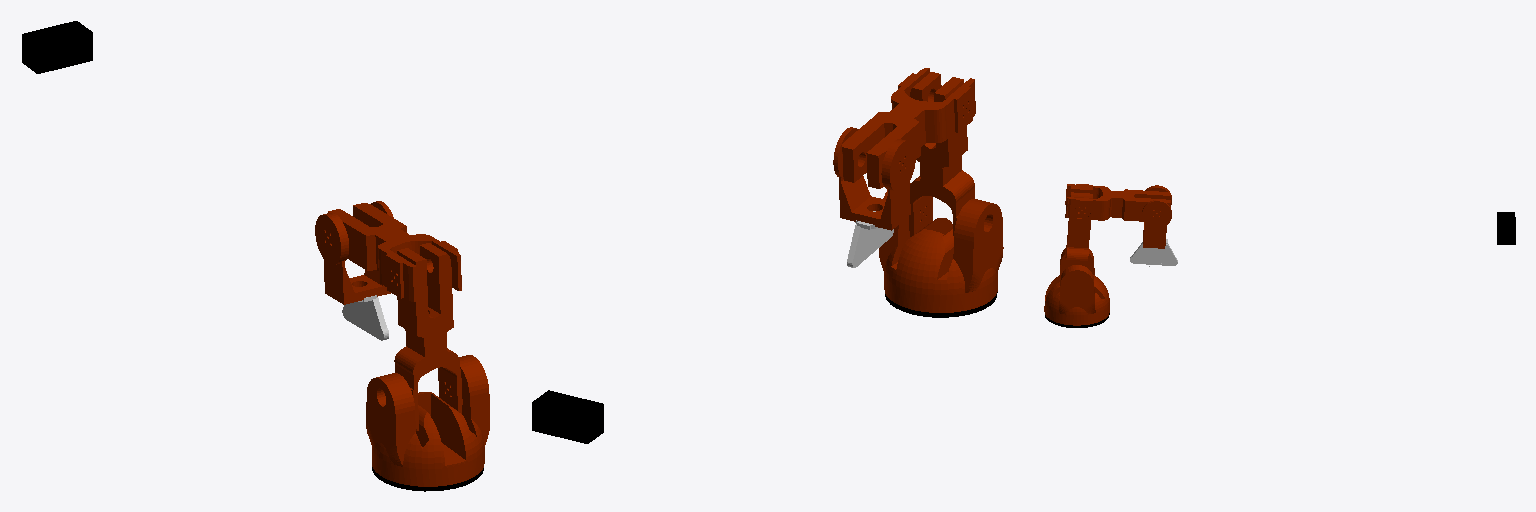
The robot description file, URDF, robot "braccio":
<?xml version="1.0"?>
<robot name="braccio">
     <gazebo>
     <plugin name="gazebo_ros_control" filename="libgazebo_ros_control.so">
       <robotNamespace>/robot</robotNamespace>
       <controlPeriod>0.001</controlPeriod>
       <legacyModeNS>true</legacyModeNS>
     </plugin>
   </gazebo>
    
    <!--<gazebo>
       <plugin filename="libroboticsgroup_gazebo_mimic_joint_plugin.so" name="sub_gripper">
        <joint>gripper_joint</joint>
        <mimicJoint>sub_gripper_joint</mimicJoint>
        <multiplier>1</multiplier>
      </plugin> 
    </gazebo>-->
    <!-- Color de materiales -->
    <material name="orange">
        <color rgba="0.57 0.17 0.0 1" />
    </material>
    <material name="white">
        <color rgba="0.8 0.8 0.8 1.0" />
    </material>
    <material name="black">
        <color rgba="0 0 0 0.50" />
    </material>

    <!--Mascaras para partes del robot-->
    <link name="base_link">
        <visual>
            <geometry>
                <cylinder length="0.01" radius=".053" />
            </geometry>
            <material name="black" />
            <origin rpy="0 0 0" xyz="0 0 0" />
        </visual>
        <inertial>
            <origin rpy="0 0 0" xyz="0 0 0" />
            <mass value="0.1" />
            <inertia ixx="0.1" ixy="0.0" ixz="0.0" iyy="0.1" iyz="0.0" izz="0.1"/>
        </inertial>
    </link>

    <link name="braccio_base_link">
        <visual>
            <geometry>
                <mesh filename="package://BRT_Description/meshes/braccio_base.stl" scale="0.01 0.01 0.01" />
            </geometry>
            <material name="orange" />
            <origin rpy="0 0 3.1416" xyz="0 0.004 0" />
        </visual>
        <collision>
            <geometry>
                <mesh filename="package://BRT_Description/meshes/braccio_base.stl" scale="0.01 0.01 0.01" />
            </geometry>
            <origin rpy="0 0 0" xyz="0 0.002 0.031" />
        </collision>
        <inertial>
            <origin rpy="0 0 0" xyz="0 0.002 0.031" />
            <mass value="0.16" />
            <inertia ixx="3.54" ixy="0.0" ixz="0.003" iyy="3.5" iyz="-0.01" izz="0.67"/>
        </inertial>
    </link>

    <link name="shoulder_link">
        <visual>
            <geometry>
                <mesh filename="package://BRT_Description/meshes/braccio_shoulder.stl" scale="0.009 0.01 0.01" />
            </geometry>
            <material name="orange" />
            <origin rpy="0 0 0" xyz="-0.0045 0.0055 -0.026" />
        </visual>
        <collision>
            <geometry>
                <mesh filename="package://BRT_Description/meshes/braccio_shoulder.stl" scale="0.009 0.01 0.01" />
            </geometry>
            <origin rpy="0 0 0" xyz="-0.0045 0.0055 -0.026" />
        </collision>
        <inertial>
            <origin rpy="0 0 0" xyz="0 0.002 0.062" />
            <mass value="0.16" />
            <inertia ixx="3.54" ixy="0.0" ixz="0.019" iyy="3.5" iyz="-0.008" izz="0.69"/>
        </inertial>
    </link>

     <link name="elbow_link">
        <visual>
            <geometry>
                <mesh filename="package://BRT_Description/meshes/braccio_elbow.stl" scale="0.01 0.01 0.01" />
            </geometry>
            <material name="orange" />
            <origin rpy="0 0 0" xyz="-0.0045 0.005 -0.025" />
        </visual>
        <collision>
            <geometry>
                <mesh filename="package://BRT_Description/meshes/braccio_elbow.stl" scale="0.01 0.01 0.01" />
            </geometry>
            <origin rpy="0 0 0" xyz="-0.0045 0.005 -0.025" />
        </collision>
        <inertial>
            <origin rpy="0 0 0" xyz="0 0.002 0.062" />
            <mass value="0.169" />
            <inertia ixx="10.74" ixy="0.0007" ixz="0.16068" iyy="13.58" iyz="0.019" izz="14.25"/>
        </inertial>
    </link>

     <link name="wrist_pitch_link">
        <visual>
            <geometry>
                <mesh filename="package://BRT_Description/meshes/braccio_wrist_pitch.stl" scale="0.01 0.01 0.01" />
            </geometry>
            <material name="orange" />
            <origin rpy="0 0 0" xyz="0.003 -0.0004 -0.024" />
        </visual>
        <collision>
            <geometry>
                 <mesh filename="package://BRT_Description/meshes/braccio_wrist_pitch.stl" scale="0.01 0.01 0.01" />
            </geometry>
            <origin rpy="0 0 0" xyz="0.003 -0.0004 -0.024" />
        </collision>
        <inertial>-->
           <origin rpy="0 0 0" xyz="-0.004 -0.002 0.032" />
            <mass value="0.062" />
            <inertia ixx="5.18" ixy="-0.0025" ixz="-0.04" iyy="0.7782" iyz="-0.00018" izz="4.125" />
        </inertial>
    </link>

    <link name="wrist_roll_link">
        <visual>
            <geometry>
                <mesh filename="package://BRT_Description/meshes/braccio_wrist_roll.stl" scale="0.01 0.01 0.01" />
            </geometry>
            <material name="white" />
            <origin rpy="0 0 0" xyz="0.006 0 0.0" />
        </visual>
        <collision>
            <geometry>
                <mesh filename="package://BRT_Description/meshes/braccio_wrist_roll.stl" scale="0.01 0.01 0.01" />
            </geometry>
            <origin rpy="0 0 0" xyz="0.006 0 0.0" />
        </collision>
        <inertial>
            <origin rpy="0 0 0" xyz="-0.007 -0.002 0.018" />
            <mass value="0.022" />
            <inertia ixx="0.5" ixy="-0.0002" ixz="-0.0003" iyy="1.108" iyz="0.0691" izz="0.66" />
        </inertial>
    </link>

    <link name="left_gripper_link">
        <visual>
            <geometry>
                <mesh filename="package://BRT_Description/stl/braccio_left_gripper.stl" scale="0.001 0.001 0.001" />
            </geometry>
            <material name="white" />
            <origin rpy="0 1.5708 0" xyz="0 -0.012 0" />
        </visual>

        <inertial>
            <origin rpy="0 0 0" xyz="0.043 0.001 0.002" />
            <mass value="0.002" />
            <inertia ixx="0.000176" ixy="0" ixz="-0.000050" iyy="0.00179" iyz="0" izz="0.000033" />
        </inertial>

        <collision>
            <origin rpy="0 1.5708 0" xyz="0 -0.012 0" />
            <geometry>
                <mesh filename="package://BRT_Description/stl/braccio_left_gripper.stl" scale="0.001 0.001 0.001" />
            </geometry>
        </collision>
    </link>
    <link name="right_gripper_link">
        <visual>
            <geometry>
                <mesh filename="package://BRT_Description/stl/braccio_right_gripper.stl" scale="0.001 0.001 0.001" />
            </geometry>
            <material name="white" />
            <origin rpy="0 1.5708 0" xyz="0 -0.012 0.010" />
        </visual>

        <inertial>
            <origin rpy="0 0 0" xyz="0.043 0.001 0.002" />
            <mass value="0.002" />
            <inertia ixx="0.000176" ixy="0" ixz="-0.000050" iyy="0.00179" iyz="0" izz="0.000033" />
        </inertial>

        <collision>
            <origin rpy="0 1.5708 0" xyz="0 -0.012 0.010" />
            <geometry>
                <mesh filename="package://BRT_Description/stl/braccio_right_gripper.stl" scale="0.001 0.001 0.001" />
            </geometry>
        </collision>
    </link>

    <!--Articulaciones del robot-->

    <joint name="base_joint" type="revolute">
        <axis xyz="0 0 -1" />
        <limit effort="1000.0" lower="0.0" upper="3.1416" velocity="1.0" />
        <origin rpy="0 0 0" xyz="0 0 0" />
        <parent link="base_link" />
        <child link="braccio_base_link" />
        <dynamics damping="0.1" friction="0.001" />
    </joint>
    
    <transmission name="base_trasmision">
        <type>transmission_interface/SimpleTransmission</type>
        <joint name="base_joint">
            <hardwareInterface>
                 hardware_interface/EffortJointInterface
            </hardwareInterface>
        </joint>
        <actuator name="base_motor">
         <hardwareInterface> hardware_interface/EffortJointInterface</hardwareInterface>
         <mechanicalReduction>1</mechanicalReduction>
        </actuator>
    </transmission>

    <joint name="shoulder_joint" type="revolute">
        <axis xyz="1 0 0" />
        <limit effort="1000.0" lower="0.2" upper="2.8" velocity="1.0" />
        <origin rpy="-1.5708 0 0" xyz="0 -0.002 0.072" />
        <parent link="braccio_base_link" />
        <child link="shoulder_link" />
        <dynamics damping="0.1" friction="0.001" />
    </joint>
    <transmission name="shoulder_trasmision">
        <type>transmission_interface/SimpleTransmission</type>
        <joint name="shoulder_joint">
            <hardwareInterface>
                 hardware_interface/EffortJointInterface
	    </hardwareInterface>
        </joint>
        <actuator name="shoulder_motor">
         <hardwareInterface> hardware_interface/EffortJointInterface</hardwareInterface>
         <mechanicalReduction>1</mechanicalReduction>
        </actuator>
    </transmission>

    <joint name="elbow_joint" type="revolute">
        <axis xyz="1 0 0" />
        <limit effort="1000.0" lower="0.0" upper="3.1416" velocity="1.0" />
        <origin rpy="-1.5708 0 0" xyz="0 0 0.125" />
        <parent link="shoulder_link" />
        <child link="elbow_link" />
        <dynamics damping="0.1" friction="0.001" />
    </joint>
    <transmission name="elbow_trasmision">
        <type>transmission_interface/SimpleTransmission</type>
        <joint name="elbow_joint">
            <hardwareInterface>
                 hardware_interface/EffortJointInterface
            </hardwareInterface>
        </joint>
        <actuator name="elbow_motor">
        <hardwareInterface> hardware_interface/EffortJointInterface</hardwareInterface>
        <mechanicalReduction>1</mechanicalReduction>
        </actuator>
    </transmission>

    <joint name="wrist_pitch_joint" type="revolute">
        <axis xyz="1 0 0" />
        <limit effort="1000.0" lower="0.0" upper="3.1416" velocity="1.0" />
        <origin rpy="-1.5708 0 0" xyz="0 0 0.125" />
        <parent link="elbow_link" />
        <child link="wrist_pitch_link" />
        <dynamics damping="0.1" friction="0.001" />
    </joint>
    <transmission name="wrist_pitch_trasmision">
        <type>transmission_interface/SimpleTransmission</type>
        <joint name="wrist_pitch_joint">
            <hardwareInterface>
                hardware_interface/EffortJointInterface
            </hardwareInterface>
        </joint>
        <actuator name="wrist_pitch_motor">
        <hardwareInterface> hardware_interface/EffortJointInterface</hardwareInterface>
        <mechanicalReduction>1</mechanicalReduction>
        </actuator>
    </transmission>

   <joint name="wrist_roll_joint" type="revolute">
        <axis xyz="0 0 -1" />
        <limit effort="1000.0" lower="0.0" upper="3.1416" velocity="1.0" />
        <origin rpy="0 0 1.5708" xyz="0 0.0 0.06" />
        <parent link="wrist_pitch_link" />
        <child link="wrist_roll_link" />
        <dynamics damping="0.1" friction="0.001" />
    </joint>
    <transmission name="wrist_roll_trasmision">
        <type>transmission_interface/SimpleTransmission</type>
        <joint name="wrist_roll_joint">
            <hardwareInterface>
                hardware_interface/EffortJointInterface
            </hardwareInterface>
        </joint>
        <actuator name="wrist_roll_motor">
        <hardwareInterface> hardware_interface/EffortJointInterface</hardwareInterface>
        <mechanicalReduction>1</mechanicalReduction>
        </actuator>
    </transmission>

     <joint name="gripper_joint" type="revolute">
        <axis xyz="0 -1 0" />
        <limit effort="10.0" lower="0.1750" upper="1.2741" velocity="1.0" />
        <origin rpy="0 -0.2967 0" xyz="0.010 0 0.03" />
        <parent link="wrist_roll_link" />
        <child link="right_gripper_link" />
       <dynamics damping="0.1" friction="0.001" />
    </joint>
    <transmission name="gripper_trasmision">
        <type>transmission_interface/SimpleTransmission</type>
        <joint name="gripper_joint">
            <hardwareInterface>
                 hardware_interface/PositionJointInterface
            </hardwareInterface>
        </joint>
        <actuator name="gripper_motor">
        <mechanicalReduction>1</mechanicalReduction>
        <hardwareInterface>hardware_interface/PositionJointInterface</hardwareInterface>
        </actuator>
    </transmission>
    

    <joint name="sub_gripper_joint" type="revolute">
        <axis xyz="0 1 0" />
        <limit effort="10.0" lower="0.1750" upper="1.2741" velocity="1.0" />
        <origin rpy="0 3.4383 0" xyz="-0.010 0 0.03" />
        <parent link="wrist_roll_link" />
        <child link="left_gripper_link" />
    </joint>
    <transmission name="sub_gripper_trasmision">
        <type>transmission_interface/SimpleTransmission</type>
        <joint name="sub_gripper_joint">
            <hardwareInterface>
                hardware_interface/PositionJointInterface
            </hardwareInterface>
        </joint>
        <actuator name="sub_gripper_motor">
        <mechanicalReduction>1</mechanicalReduction>
        <hardwareInterface>hardware_interface/PositionJointInterface</hardwareInterface>
        </actuator>
    </transmission> 
    
    <link name="world"/>
    <joint name="world_joint" type="fixed">
        <parent link="world"/>
        <child link="base_link"/>
        <origin rpy="0.0 0.0 0.0" xyz="0.0 0.0 0.0"/>
    </joint>
    
    <gazebo reference="base_link">
        <mu1>1</mu1>
        <mu2>1</mu2>
        <selfCollide>true</selfCollide>
        <material>Gazebo/Orange</material>
    </gazebo>

  <gazebo reference="braccio_base_link">
    <material>Gazebo/Orange</material>
    <mu1>1</mu1>
    <mu2>1</mu2>
    <selfCollide>true</selfCollide>
  </gazebo>
  <gazebo reference="shoulder_link">
    <material>Gazebo/Orange</material>
    <mu1>1</mu1>
    <mu2>1</mu2>
    <selfCollide>true</selfCollide>
  </gazebo>
  <gazebo reference="elbow_link">
    <material>Gazebo/Orange</material>
    <mu1>1</mu1>
    <mu2>1</mu2>
    <selfCollide>true</selfCollide>
  </gazebo>
  <gazebo reference="wrist_pitch_link">
    <material>Gazebo/Orange</material>
    <mu1>1</mu1>
    <mu2>1</mu2>
    <selfCollide>true</selfCollide>
  </gazebo>
  <gazebo reference="wrist_roll_link">
    <material>Gazebo/White</material>
    <mu1>1</mu1>
    <mu2>1</mu2>
    <selfCollide>true</selfCollide>
  </gazebo>
  <gazebo reference="right_gripper_link">
    <material>Gazebo/White</material>
    <mu1>0.5</mu1>
    <mu2>0.5</mu2>
    <kp>500000.0</kp>
    <kd>10.0</kd>
    <minDepth>0.001</minDepth>
    <maxVel>0.1</maxVel>
    <fdir1>1 0 0</fdir1>
  </gazebo>
  <gazebo reference="left_gripper_link">
    <material>Gazebo/White</material>
    <mu1>0.5</mu1>
    <mu2>0.5</mu2>
    <kp>500000.0</kp>
    <kd>10.0</kd>
    <minDepth>0.001</minDepth>
    <maxVel>0.1</maxVel>
    <fdir1>1 0 0</fdir1>
  </gazebo>
  <gazebo reference="gripper_joint">
        <implicitSpringDamper>1</implicitSpringDamper>
    </gazebo>
  <gazebo reference="sub_gripper_joint">
     <implicitSpringDamper>1</implicitSpringDamper>
  </gazebo>
 <!--INICIO DE RGB CAMERA-->
    <joint name="table_joint" type="fixed">
        <parent link="world"/>
        <child link="camera_link"/>
        <origin rpy="0 0 -1.57" xyz="0.0 0.7 0.15"/>
    </joint>

    <link name="camera_link">
        <collision>
        <origin xyz="0 0 0" rpy="0 0 0"/>
        <geometry>
            <box size="0.03 0.06 0.03"/>
        </geometry>
        </collision>

        <visual>
        <origin xyz="0 0 0" rpy="0 0 0"/>
        <geometry>
            <box size="0.03 0.06 0.03"/>
        </geometry>
        <material name="black"/>
        </visual>
        <inertial>
        <mass value="1e-5" />
        <origin xyz="0 0 0" rpy="0 0 0"/>
        <inertia ixx="1e-6" ixy="0" ixz="0" iyy="1e-6" iyz="0" izz="1e-6" />
        </inertial>
    </link>

    <joint name="camera_rgb_joint" type="fixed">
        <origin xyz="0.003 0.011 0.009" rpy="0 0 0"/>
        <parent link="camera_link"/>
        <child link="camera_rgb_frame"/>
    </joint>
    <link name="camera_rgb_frame"/>

    <joint name="camera_rgb_optical_joint" type="fixed">
        <origin xyz="0 0 0" rpy="-1.57 0 -1.57"/>
        <parent link="camera_rgb_frame"/>
        <child link="camera_rgb_optical_frame"/>
    </joint>
    <link name="camera_rgb_optical_frame"/>

    <gazebo reference="camera_link">
        <sensor type="camera" name="usb_camera">
        <update_rate>30.0</update_rate>
        <camera name="usb">
            <horizontal_fov>1.3962634</horizontal_fov>
            <image>
            <width>800</width>
            <height>800</height>
            <format>R8G8B8</format>
            </image>
            <clip>
            <near>0.02</near>
            <far>300</far>
            </clip>
            <noise>
            <type>gaussian</type>
            <!-- Noise is sampled independently per pixel on each frame. That pixel's noise value is added to each of its color channels, which at that point lie in the range [0,1]. -->
            <mean>0.0</mean>
            <stddev>0.007</stddev>
            </noise>
        </camera>
        <plugin name="camera_controller" filename="libgazebo_ros_camera.so">
            <alwaysOn>true</alwaysOn>
            <updateRate>30.0</updateRate>
            <cameraName>usb_camera</cameraName>
            <imageTopicName>image_raw</imageTopicName>
            <cameraInfoTopicName>camera_info</cameraInfoTopicName>
            <frameName>camera_rgb_optical_frame</frameName>
            <hackBaseline>0.07</hackBaseline>
            <distortionK1>0.0</distortionK1>
            <distortionK2>0.0</distortionK2>
            <distortionK3>0.0</distortionK3>
            <distortionT1>0.0</distortionT1>
            <distortionT2>0.0</distortionT2>
        </plugin>
        </sensor>
    </gazebo>

    <gazebo reference="camera_link">
        <material>Gazebo/Black</material>
    </gazebo>



</robot>

--- Render facts (derived) ---
3 views of the same robot in one strip: view 1: azimuth 30°, elevation 25°; view 2: azimuth 150°, elevation 25°; view 3: azimuth 270°, elevation 25° (orthographic).
Robot: braccio — 12 links, 11 joints (7 revolute, 4 fixed); root link world; default pose: all joints at 0 but 3 set to mid-range because 0 is outside their limits (shoulder_joint = 1.5, gripper_joint = 0.7246, sub_gripper_joint = 0.7246).
Visible links, largest first — view 1: braccio_base_link, shoulder_link, elbow_link, wrist_pitch_link, camera_link, wrist_roll_link; view 2: braccio_base_link, elbow_link, shoulder_link, wrist_pitch_link, camera_link, wrist_roll_link; view 3: braccio_base_link, elbow_link, shoulder_link, wrist_pitch_link, wrist_roll_link, camera_link.
Boxes of the visible links, <box> form: braccio_base_link: <box>366,355,489,486</box>; shoulder_link: <box>394,243,462,430</box>; elbow_link: <box>328,203,461,301</box>; wrist_pitch_link: <box>315,201,393,304</box>; camera_link: <box>22,21,92,73</box>; wrist_roll_link: <box>342,295,388,340</box>; braccio_base_link: <box>879,183,1003,312</box>; elbow_link: <box>842,68,975,188</box>; shoulder_link: <box>909,72,974,236</box>; wrist_pitch_link: <box>833,127,915,230</box>; camera_link: <box>532,390,603,443</box>; wrist_roll_link: <box>847,211,893,267</box>; braccio_base_link: <box>1044,248,1109,325</box>; elbow_link: <box>1065,184,1170,222</box>; shoulder_link: <box>1065,186,1092,268</box>; wrist_pitch_link: <box>1142,185,1171,248</box>; wrist_roll_link: <box>1130,239,1177,265</box>; camera_link: <box>1497,212,1515,244</box>.
Size in the robot's own frame: 0.1065 by 0.7683 by 0.2227 metres.
7 mesh visuals loaded from 7 distinct referenced files (7 binary STL).